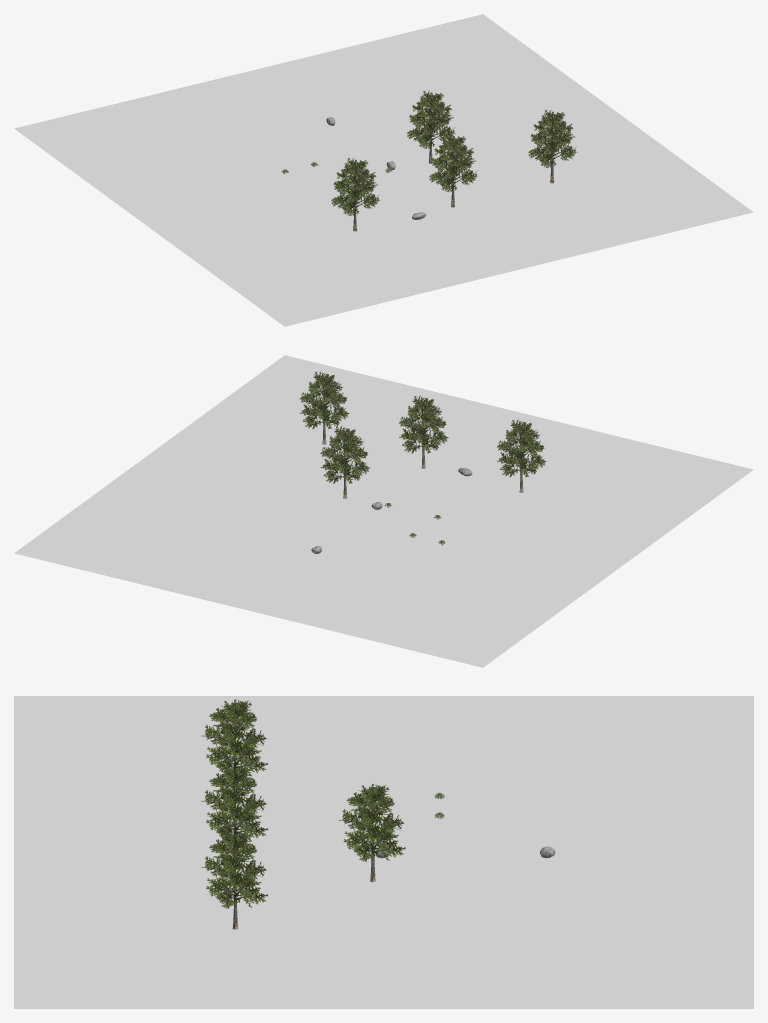
The model's file is map.glb.
3 views of the same model, one above another, from view 1: azimuth 30°, elevation 25°; view 2: azimuth 150°, elevation 25°; view 3: azimuth 270°, elevation 25° (orthographic). The views are drawn at different scales.
Visible parts, largest first — view 1: Plane, LowPolyTree.003, LowPolyTree, LowPolyTree.004, LowPolyTree.006; view 2: Plane, LowPolyTree.003, LowPolyTree.006, LowPolyTree.004, LowPolyTree; view 3: Plane, LowPolyTree.006, LowPolyTree.004, LowPolyTree.003, LowPolyTree.
Boxes of the visible parts, x1,y1,x2,y2 form: Plane: (14, 14, 753, 326); LowPolyTree.003: (429, 134, 477, 191); LowPolyTree: (331, 158, 380, 215); LowPolyTree.004: (528, 110, 577, 167); LowPolyTree.006: (407, 90, 455, 148); Plane: (14, 355, 753, 667); LowPolyTree.003: (398, 395, 448, 453); LowPolyTree.006: (320, 426, 370, 483); LowPolyTree.004: (299, 371, 349, 429); LowPolyTree: (497, 419, 546, 477); Plane: (14, 696, 753, 1008); LowPolyTree.006: (339, 784, 405, 861); LowPolyTree.004: (201, 831, 267, 908); LowPolyTree.003: (201, 765, 267, 841); LowPolyTree: (202, 699, 267, 775).
Size of the model in its own units: 100 by 14.71 by 100.
15 materials, 15 textured.
